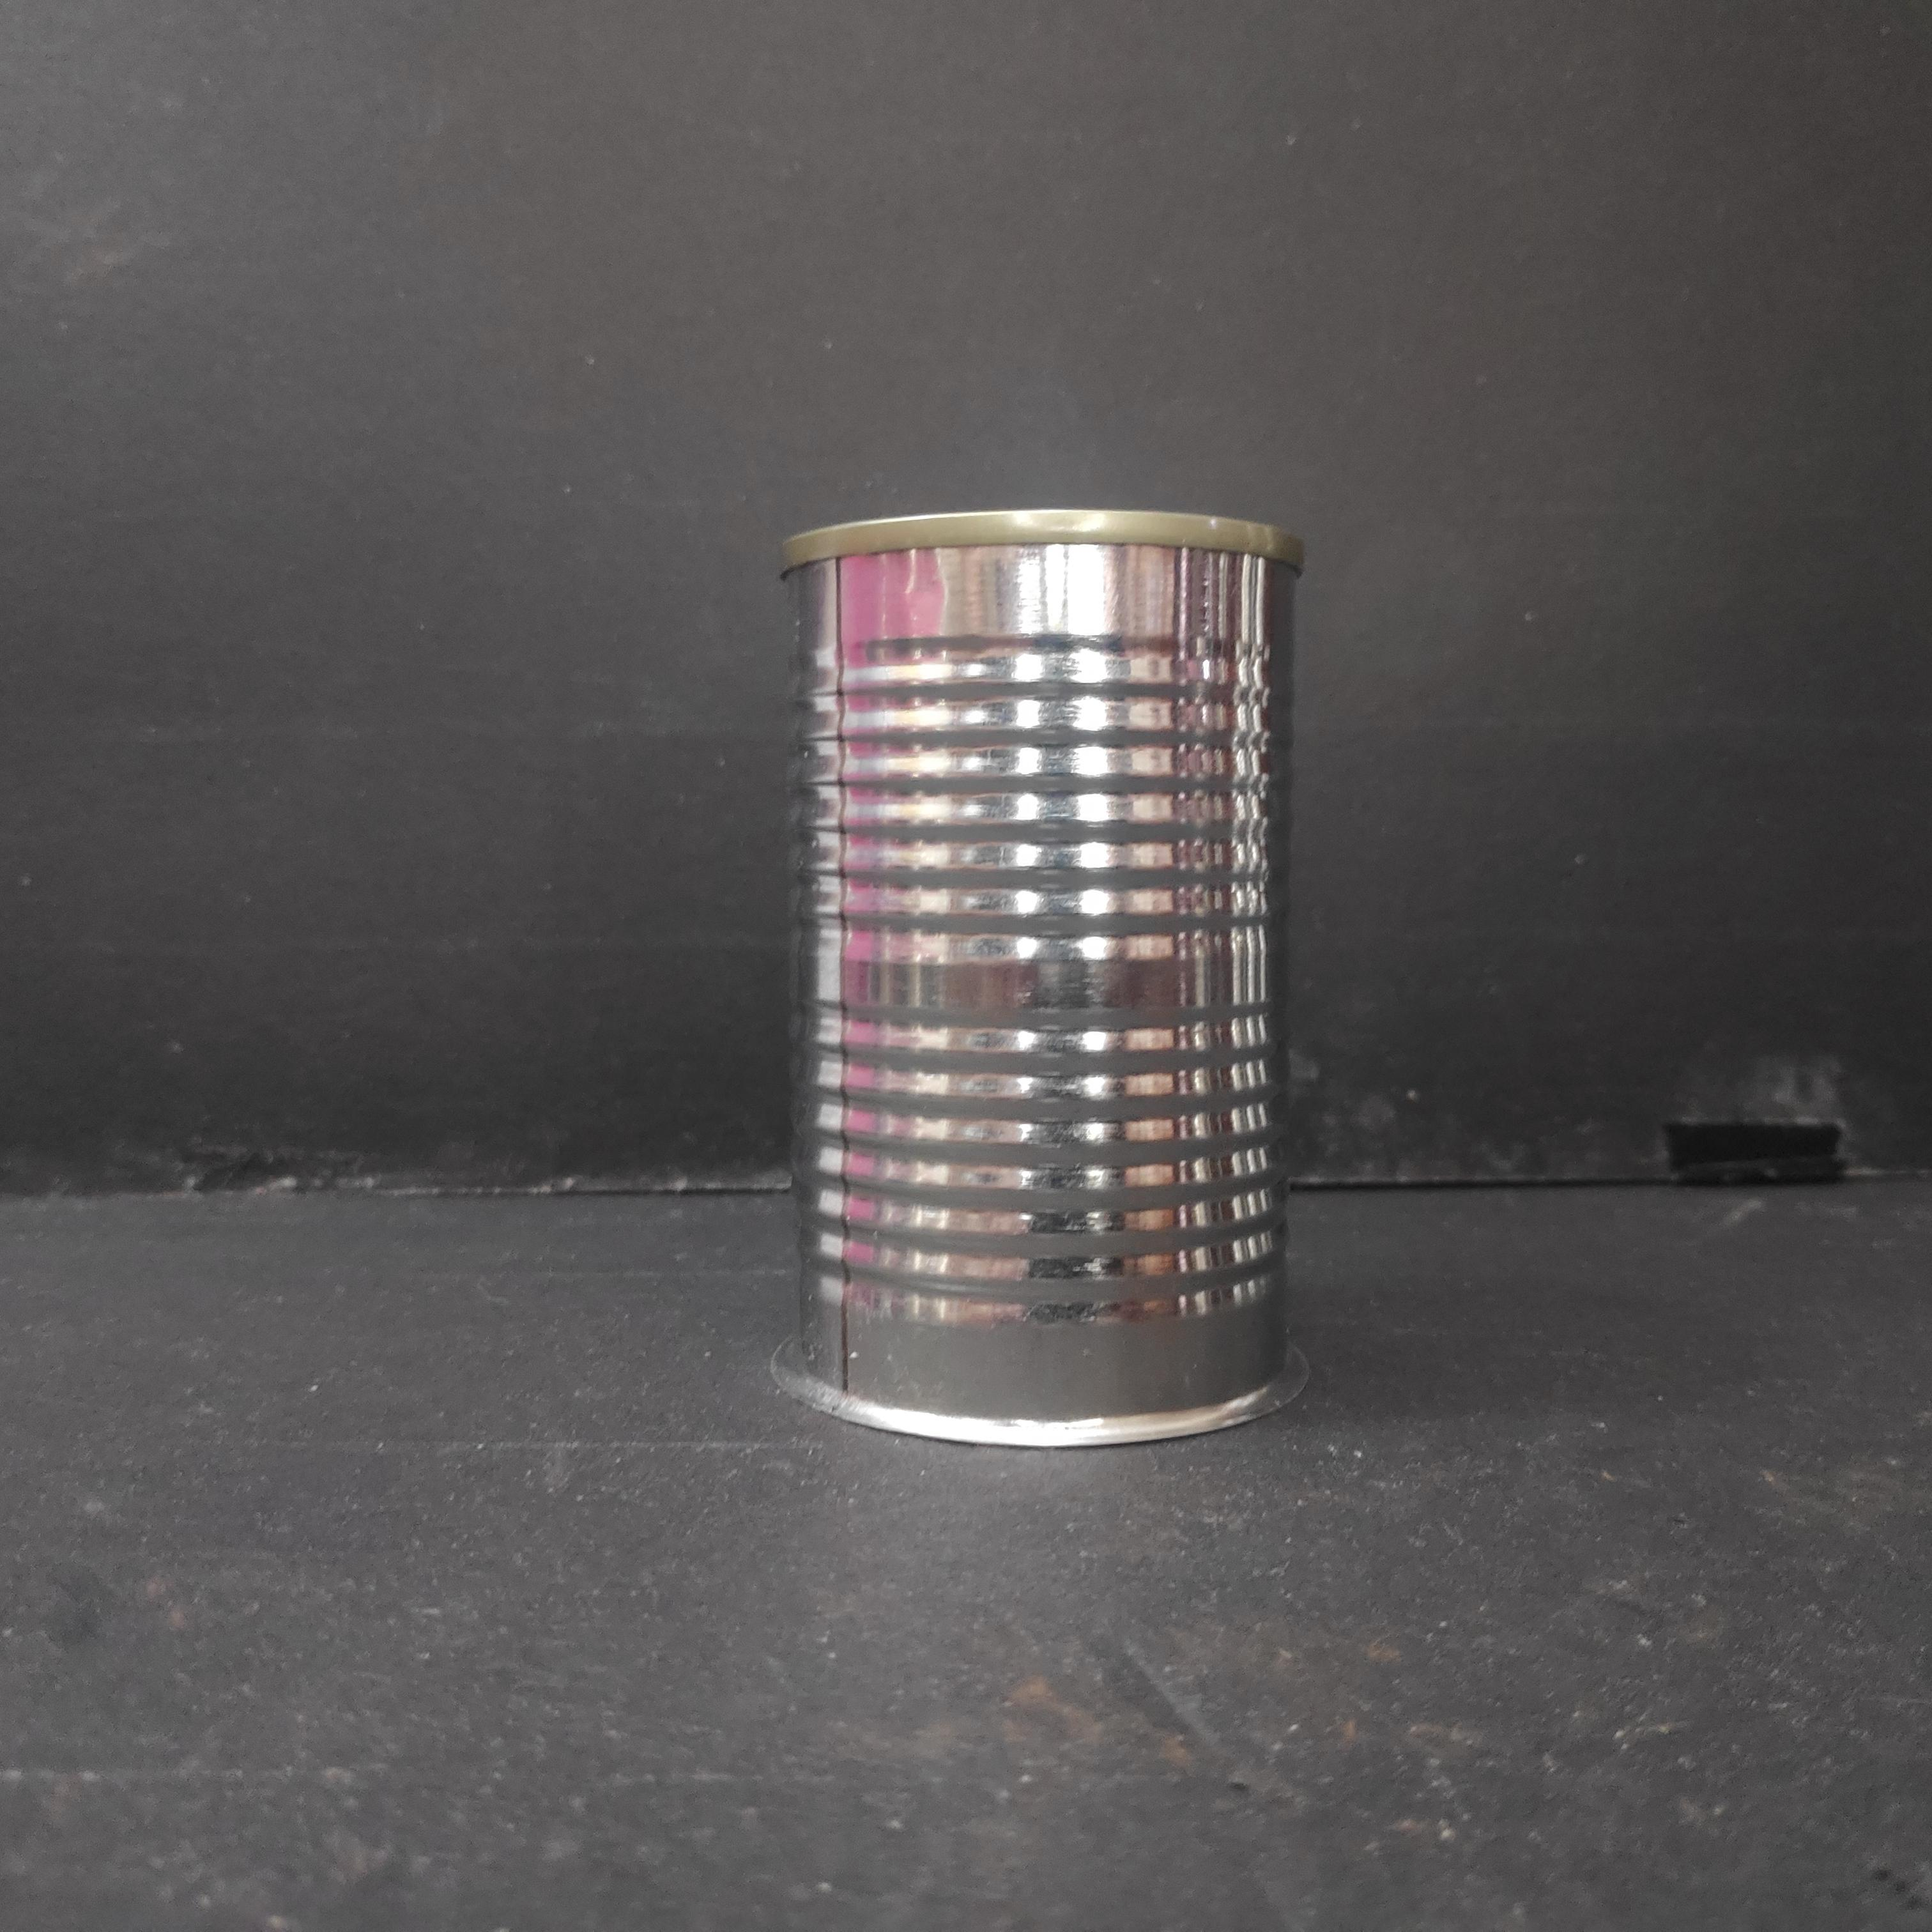No defect: (771, 492, 1322, 1456)
